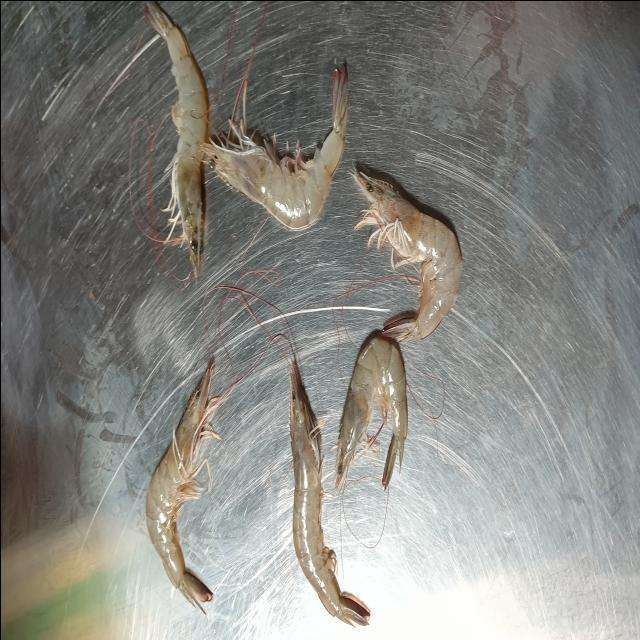shrimp: (202, 64, 349, 228), (289, 359, 369, 625), (352, 171, 461, 341), (145, 359, 220, 605), (144, 0, 208, 273), (334, 335, 406, 489)
